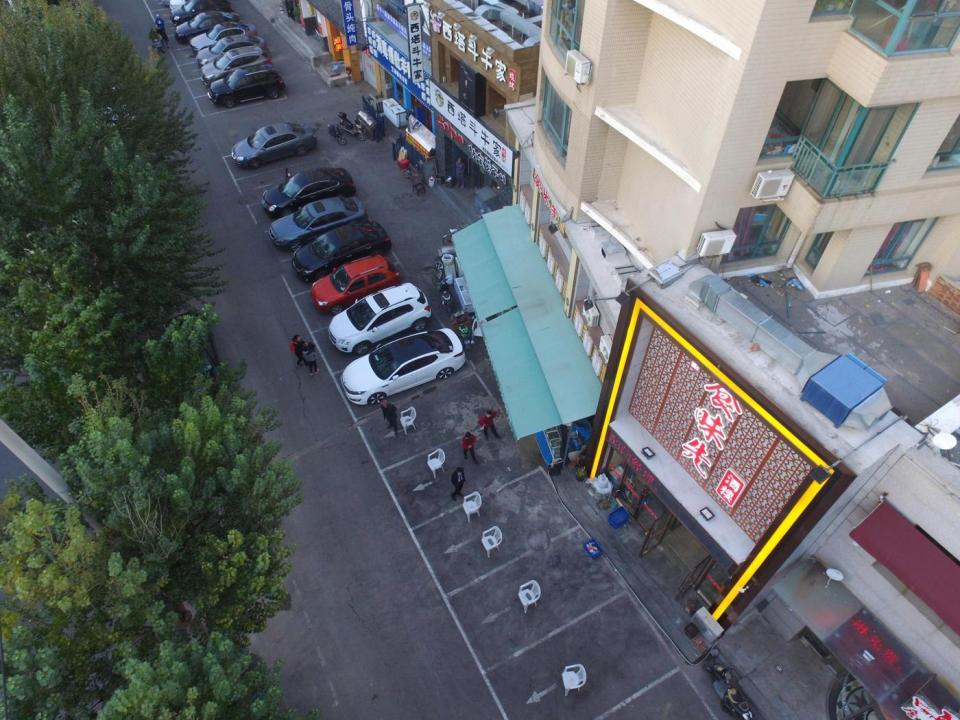car: (338, 326, 466, 404), (152, 306, 237, 422), (326, 281, 432, 355), (293, 220, 393, 283), (268, 192, 369, 251), (309, 253, 403, 315), (260, 168, 359, 217), (231, 122, 318, 170), (206, 64, 286, 108), (200, 45, 274, 87), (196, 34, 270, 67), (190, 22, 257, 55), (174, 11, 241, 42), (170, 1, 239, 26)
